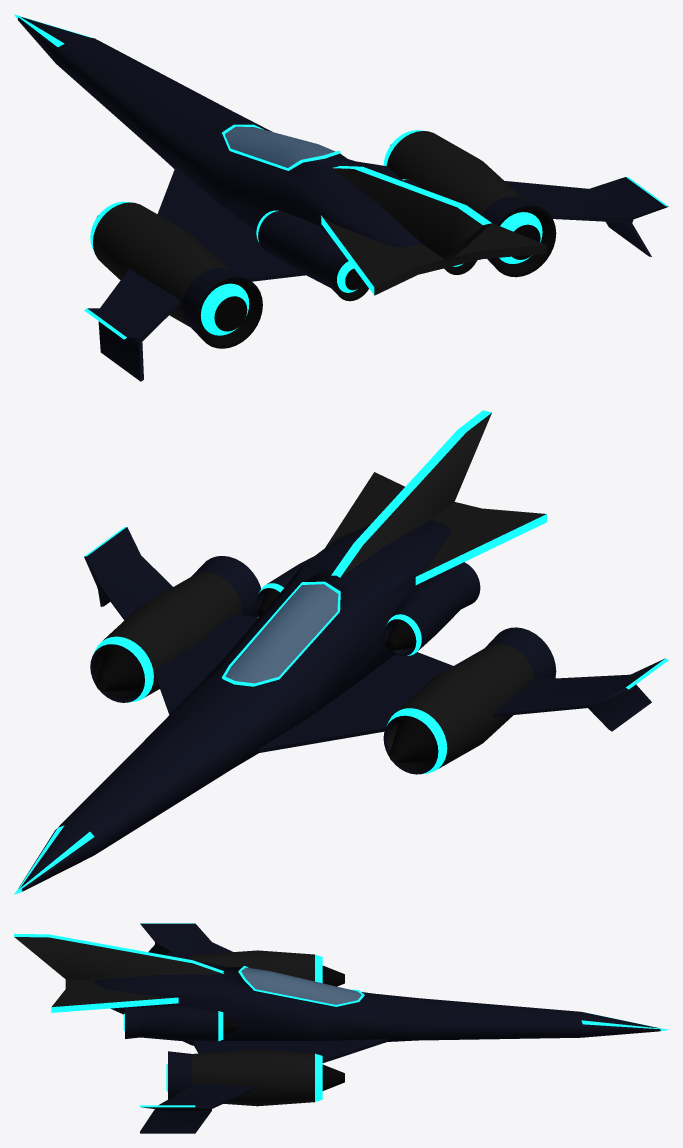
3 renders of one model, top to bottom at view 1: azimuth 30°, elevation 25°; view 2: azimuth 150°, elevation 25°; view 3: azimuth 270°, elevation 25°, orthographic. The views are drawn at different scales.
Parts seen in each view (by area): view 1: Cube.001; view 2: Cube.001; view 3: Cube.001.
Part boxes in pixels (x1=…): Cube.001: x1=14, y1=14, x2=668, y2=381; Cube.001: x1=14, y1=410, x2=668, y2=894; Cube.001: x1=14, y1=923, x2=668, y2=1133.
Size of the model in its own units: 504 by 152 by 759.
